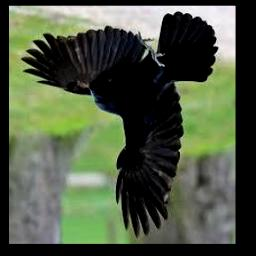Crow: (19, 13, 218, 238)
